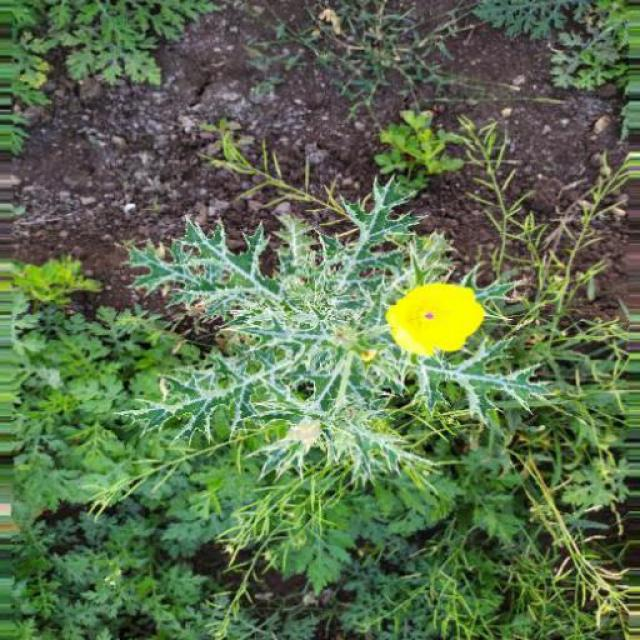weed: (62, 164, 628, 598)
